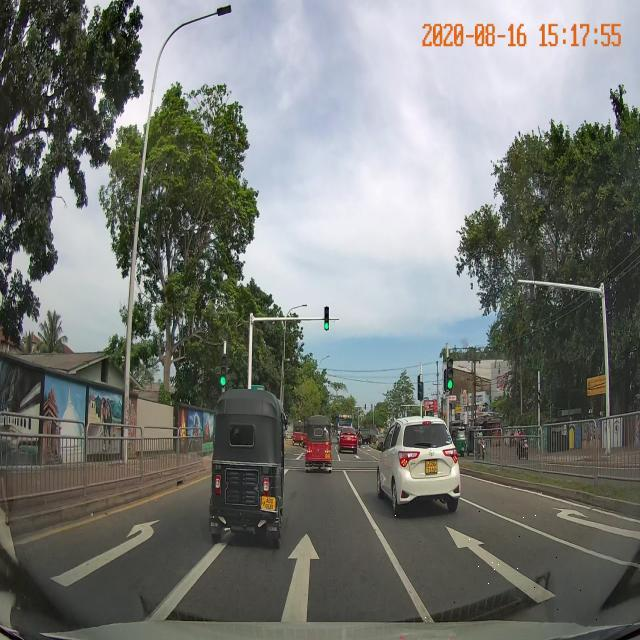forward: (377, 509, 622, 620)
